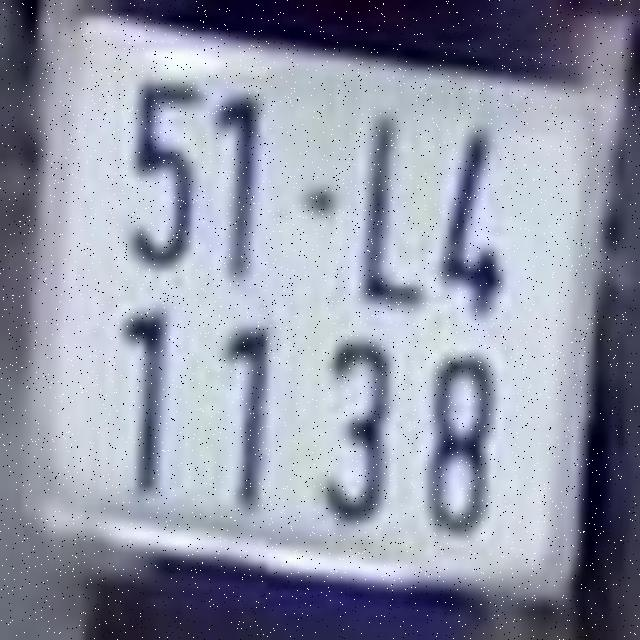1: (218, 321, 272, 512), (117, 306, 169, 496), (212, 88, 261, 280)
3: (324, 337, 390, 525)
4: (442, 126, 506, 317)
5: (129, 74, 202, 269)
8: (429, 354, 493, 536)
L: (358, 110, 428, 312)
